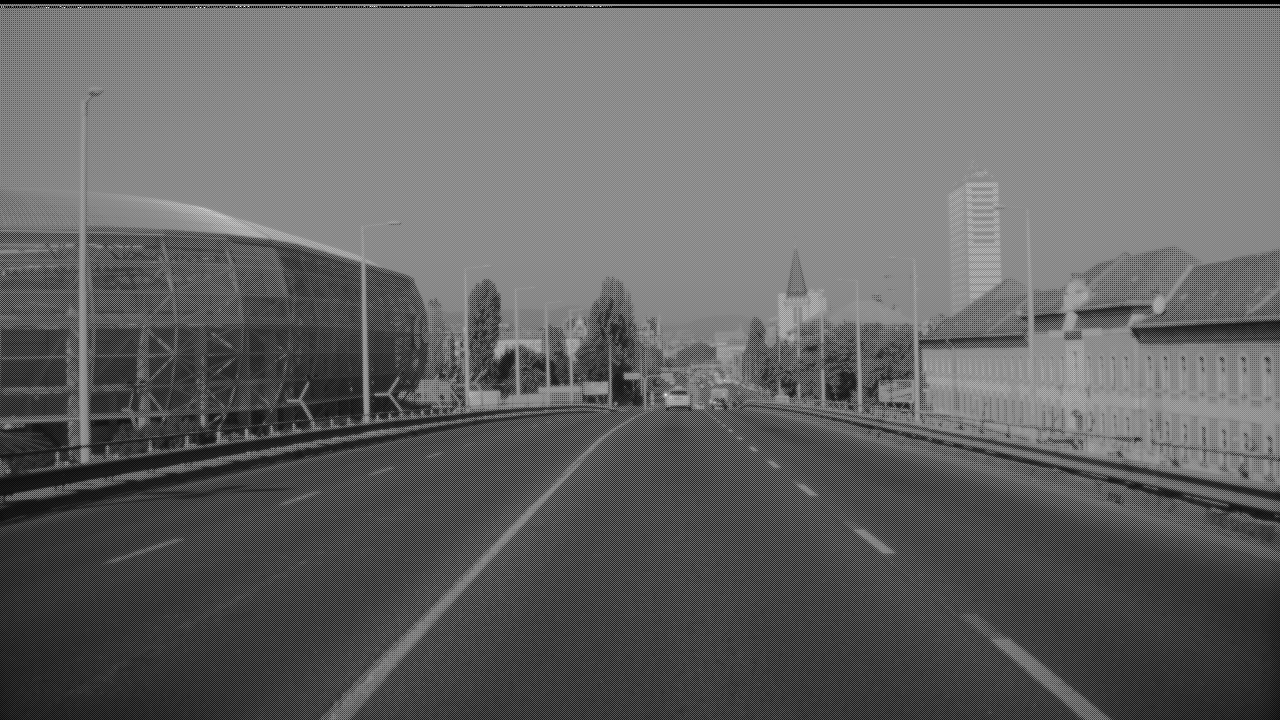pole: (1190, 89, 1203, 456), (243, 198, 256, 436), (911, 213, 920, 413), (361, 246, 369, 408), (419, 271, 427, 404), (812, 259, 818, 397), (761, 279, 768, 393), (454, 297, 462, 394), (732, 294, 737, 393)
